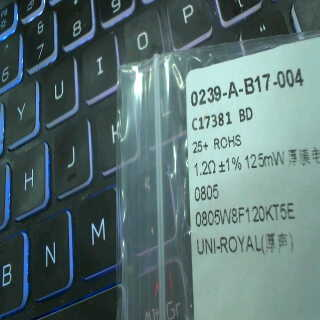1.2R: (190, 161, 223, 202)
